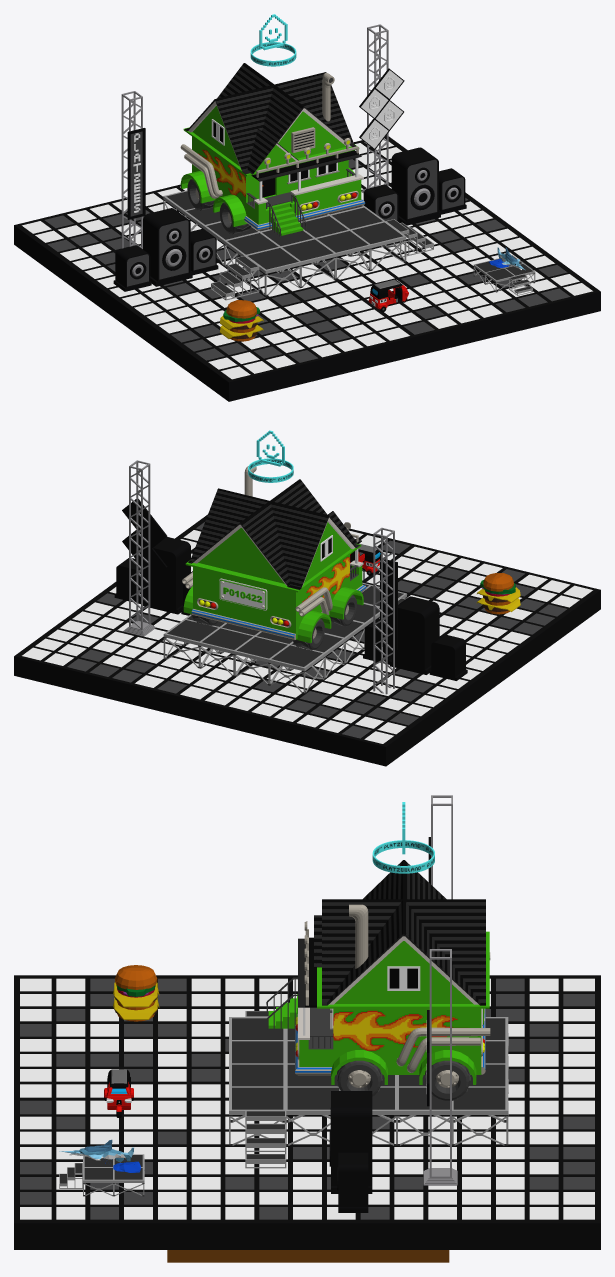
The picture shows the model from 3 angles, top to bottom: view 1: azimuth 30°, elevation 25°; view 2: azimuth 150°, elevation 25°; view 3: azimuth 270°, elevation 25°; orthographic projection. The views are drawn at different scales.
Visible parts, largest first — view 1: Cube.008, Cube.1474, OBJRANDOM_HAMBURGER, TYPE_PREMIUM, VEHICLES_TUC_TUC; view 2: Cube.008, Cube.1474, OBJRANDOM_HAMBURGER, TYPE_PREMIUM, VEHICLES_TUC_TUC; view 3: Cube.008, Cube.1474, UNDERGROUND_ART_PIECE_VAN_GOGH, OBJRANDOM_HAMBURGER, TYPE_PREMIUM, VEHICLES_TUC_TUC, ANIMAL_PEZ_ESPADA.
Part boxes in pixels (box(x1,y1,x2,y2)): Cube.008: box(14, 24, 600, 401); Cube.1474: box(180, 63, 365, 236); OBJRANDOM_HAMBURGER: box(219, 300, 263, 341); TYPE_PREMIUM: box(250, 14, 296, 66); VEHICLES_TUC_TUC: box(368, 279, 408, 312); Cube.008: box(14, 460, 600, 766); Cube.1474: box(182, 466, 366, 650); OBJRANDOM_HAMBURGER: box(476, 573, 520, 614); TYPE_PREMIUM: box(248, 430, 293, 482); VEHICLES_TUC_TUC: box(350, 543, 380, 575); Cube.008: box(14, 795, 600, 1249); Cube.1474: box(266, 860, 490, 1101); UNDERGROUND_ART_PIECE_VAN_GOGH: box(167, 1250, 449, 1262); OBJRANDOM_HAMBURGER: box(113, 965, 159, 1021); TYPE_PREMIUM: box(372, 802, 434, 873); VEHICLES_TUC_TUC: box(104, 1069, 133, 1117); ANIMAL_PEZ_ESPADA: box(59, 1139, 140, 1172).
Bounding box in the file's own units: 4000 × 2637 × 4000.
49 materials, 4 textured.
